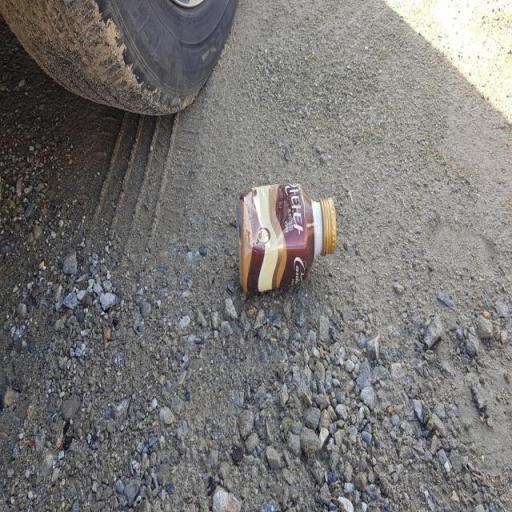metal: (219, 164, 347, 304)
